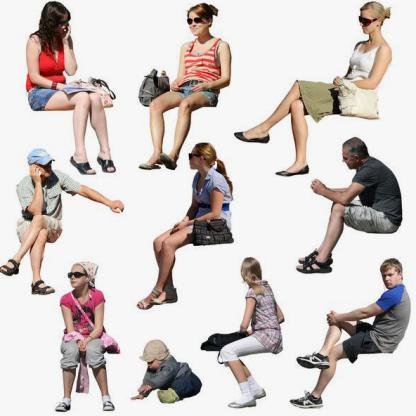person: (238, 0, 398, 177), (16, 0, 123, 177), (288, 256, 410, 409), (134, 142, 240, 310), (136, 2, 234, 172), (293, 136, 408, 274), (206, 251, 284, 408), (46, 258, 118, 415), (12, 147, 68, 293), (135, 337, 204, 404)
